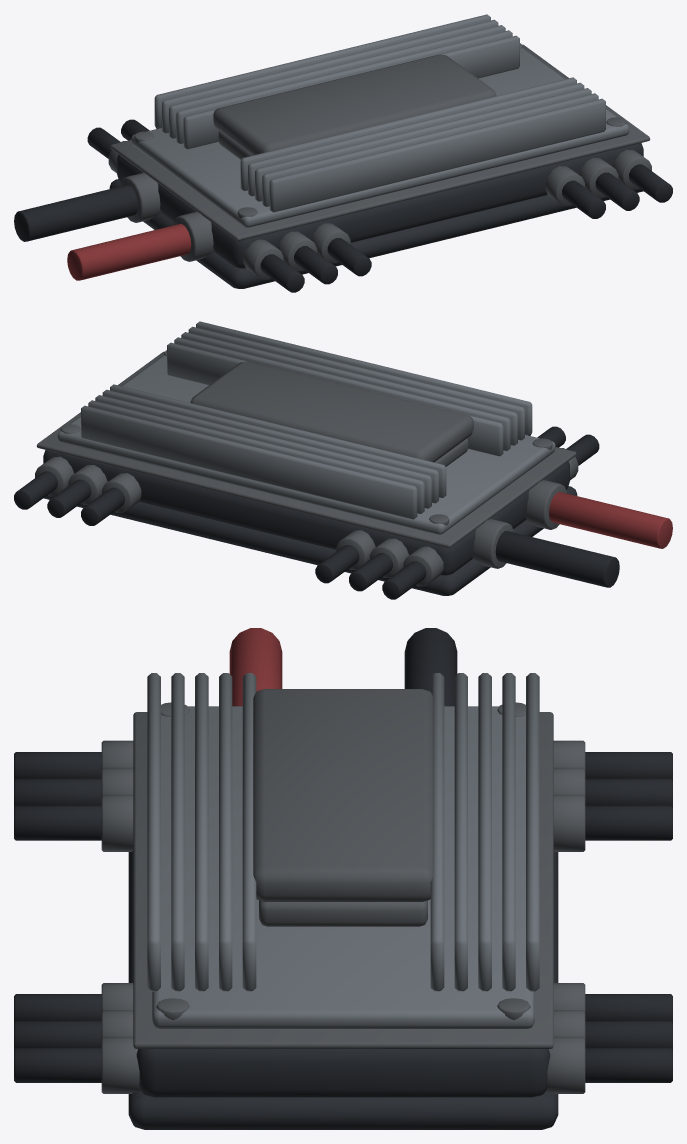
File: small_esc_4in1.glb
3 renders of one model, top to bottom at view 1: azimuth 30°, elevation 25°; view 2: azimuth 150°, elevation 25°; view 3: azimuth 270°, elevation 25°, orthographic. The views are drawn at different scales.
Visible parts, largest first — view 1: SmallESC_TopCover, SmallESC_Fin_01, SmallESC_HeatSink, SmallESC_MainHousing, SmallESC_EnclosureSeam, SmallESC_Base, SmallESC_PowerCable_Negative, SmallESC_PowerCable_Positive, SmallESC_Fin_06, SmallESC_Fin_03, SmallESC_Fin_05, SmallESC_Fin_10 (+20 smaller); view 2: SmallESC_TopCover, SmallESC_Fin_10, SmallESC_HeatSink, SmallESC_MainHousing, SmallESC_EnclosureSeam, SmallESC_Base, SmallESC_PowerCable_Positive, SmallESC_PowerCable_Negative, SmallESC_Fin_05, SmallESC_Fin_01, SmallESC_Fin_06, SmallESC_Fin_08 (+20 smaller); view 3: SmallESC_HeatSink, SmallESC_TopCover, SmallESC_MainHousing, SmallESC_EnclosureSeam, SmallESC_Base, SmallESC_Fin_01, SmallESC_Fin_02, SmallESC_Fin_03, SmallESC_Fin_04, SmallESC_Fin_07, SmallESC_Fin_08, SmallESC_Fin_09 (+30 smaller).
Boxes of the visible parts, left/top/right/bottom form: SmallESC_TopCover: left=213, top=54, right=496, bottom=155; SmallESC_Fin_01: left=269, top=98, right=605, bottom=212; SmallESC_HeatSink: left=131, top=48, right=629, bottom=227; SmallESC_MainHousing: left=117, top=143, right=643, bottom=268; SmallESC_EnclosureSeam: left=110, top=44, right=650, bottom=240; SmallESC_Base: left=109, top=179, right=643, bottom=288; SmallESC_PowerCable_Negative: left=14, top=185, right=137, bottom=241; SmallESC_PowerCable_Positive: left=67, top=224, right=191, bottom=280; SmallESC_Fin_06: left=183, top=35, right=519, bottom=149; SmallESC_Fin_03: left=255, top=88, right=591, bottom=201; SmallESC_Fin_05: left=240, top=77, right=576, bottom=190; SmallESC_Fin_10: left=154, top=14, right=490, bottom=128; SmallESC_TopCover: left=190, top=361, right=473, bottom=462; SmallESC_Fin_10: left=81, top=405, right=417, bottom=519; SmallESC_HeatSink: left=57, top=355, right=555, bottom=534; SmallESC_MainHousing: left=43, top=450, right=569, bottom=575; SmallESC_EnclosureSeam: left=36, top=351, right=576, bottom=547; SmallESC_Base: left=43, top=486, right=577, bottom=595; SmallESC_PowerCable_Positive: left=549, top=492, right=672, bottom=548; SmallESC_PowerCable_Negative: left=495, top=531, right=619, bottom=587; SmallESC_Fin_05: left=167, top=342, right=503, bottom=456; SmallESC_Fin_01: left=196, top=321, right=532, bottom=435; SmallESC_Fin_06: left=110, top=384, right=446, bottom=497; SmallESC_Fin_08: left=95, top=395, right=431, bottom=508; SmallESC_HeatSink: left=152, top=706, right=534, bottom=1028; SmallESC_TopCover: left=253, top=689, right=433, bottom=901; SmallESC_MainHousing: left=136, top=1049, right=550, bottom=1097; SmallESC_EnclosureSeam: left=133, top=712, right=553, bottom=1048; SmallESC_Base: left=128, top=851, right=558, bottom=1129; SmallESC_Fin_01: left=147, top=673, right=160, bottom=991; SmallESC_Fin_02: left=171, top=673, right=184, bottom=991; SmallESC_Fin_03: left=195, top=673, right=208, bottom=991; SmallESC_Fin_04: left=219, top=673, right=232, bottom=991; SmallESC_Fin_07: left=454, top=673, right=467, bottom=991; SmallESC_Fin_08: left=478, top=673, right=491, bottom=991; SmallESC_Fin_09: left=502, top=673, right=515, bottom=991.
Size of the model in its own units: 0.0647 by 0.0127 by 0.0414.
